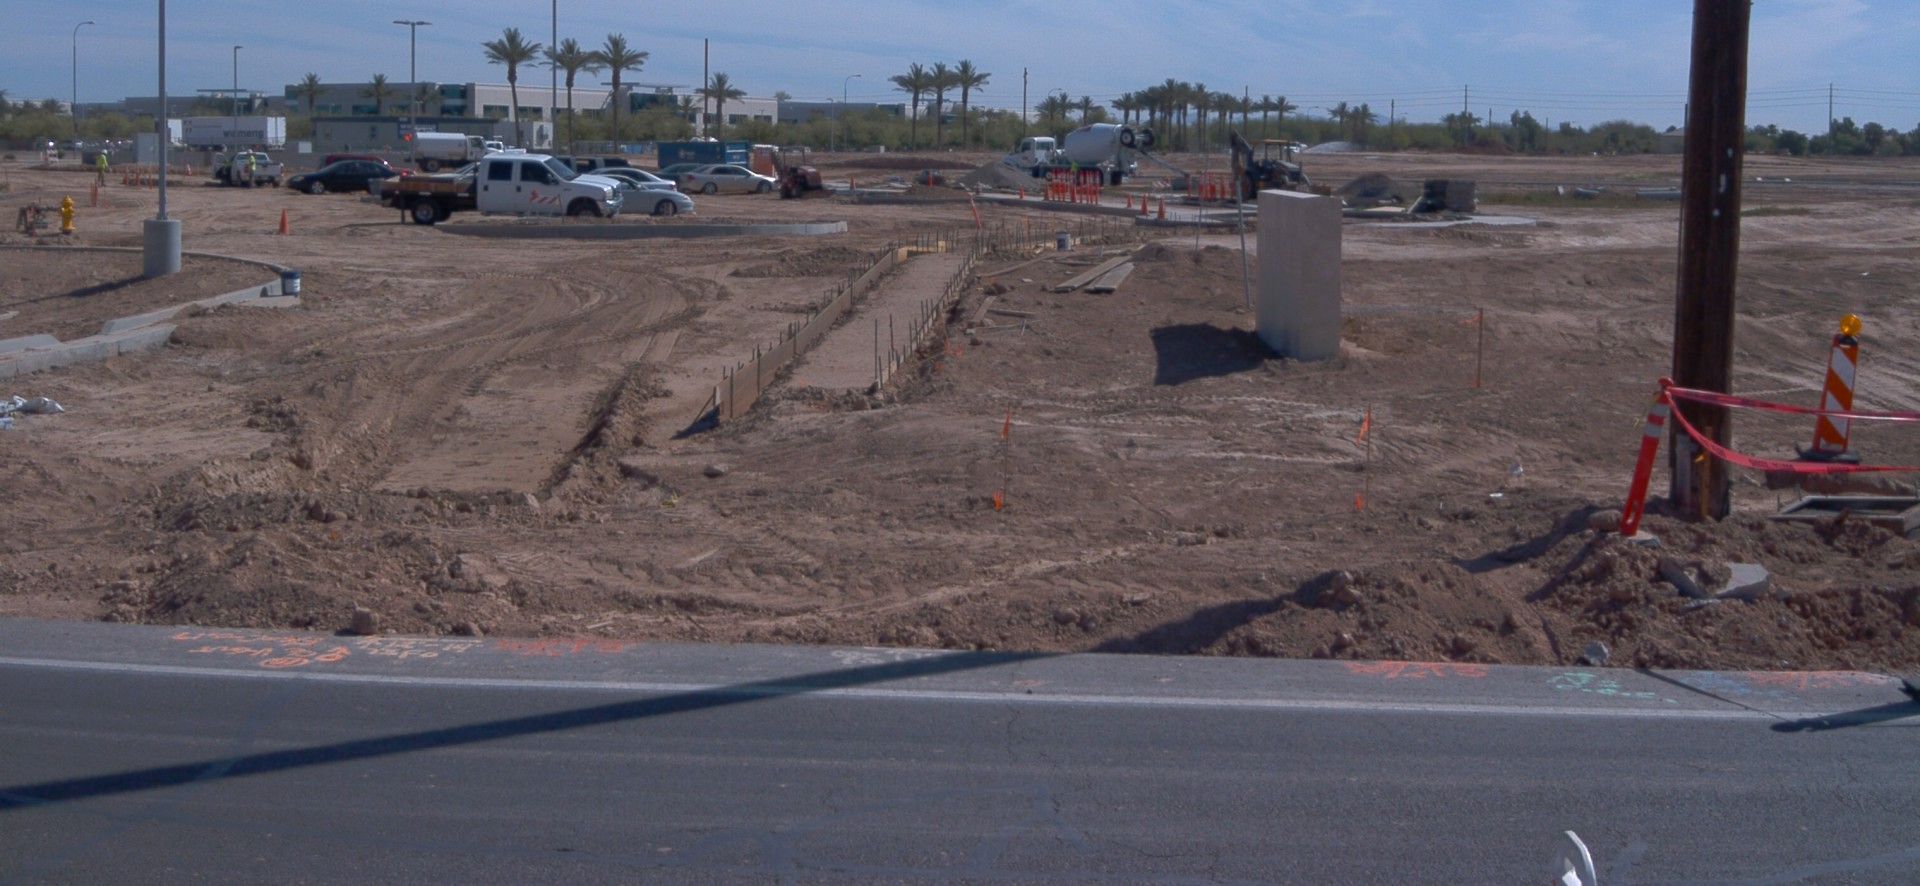TYPE_PEDESTRIAN: (95, 149, 113, 188), (242, 147, 256, 187), (1069, 158, 1081, 177), (222, 161, 234, 167)
TYPE_VEHICLE: (377, 153, 625, 226), (1001, 121, 1190, 183), (1227, 135, 1334, 206), (181, 110, 288, 160), (58, 117, 177, 157), (405, 125, 501, 174), (282, 161, 405, 195), (600, 174, 695, 218), (678, 163, 781, 195), (209, 149, 284, 192), (774, 144, 830, 200), (585, 168, 676, 196), (315, 155, 418, 176), (550, 161, 632, 180), (649, 165, 697, 191), (485, 141, 529, 162), (1285, 139, 1308, 155), (460, 164, 480, 177)
